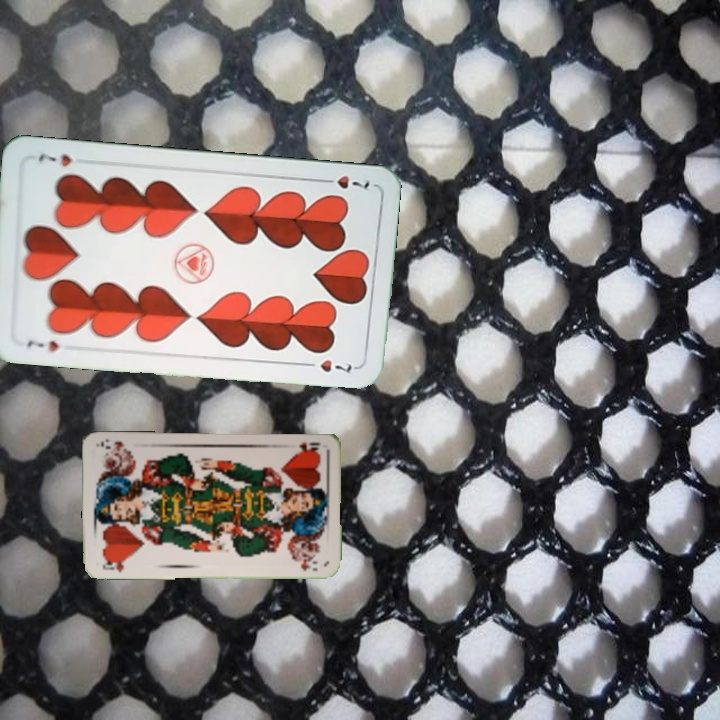H7: (316, 172, 372, 192), (23, 336, 61, 354)
HO: (98, 555, 129, 574), (294, 438, 323, 455)
